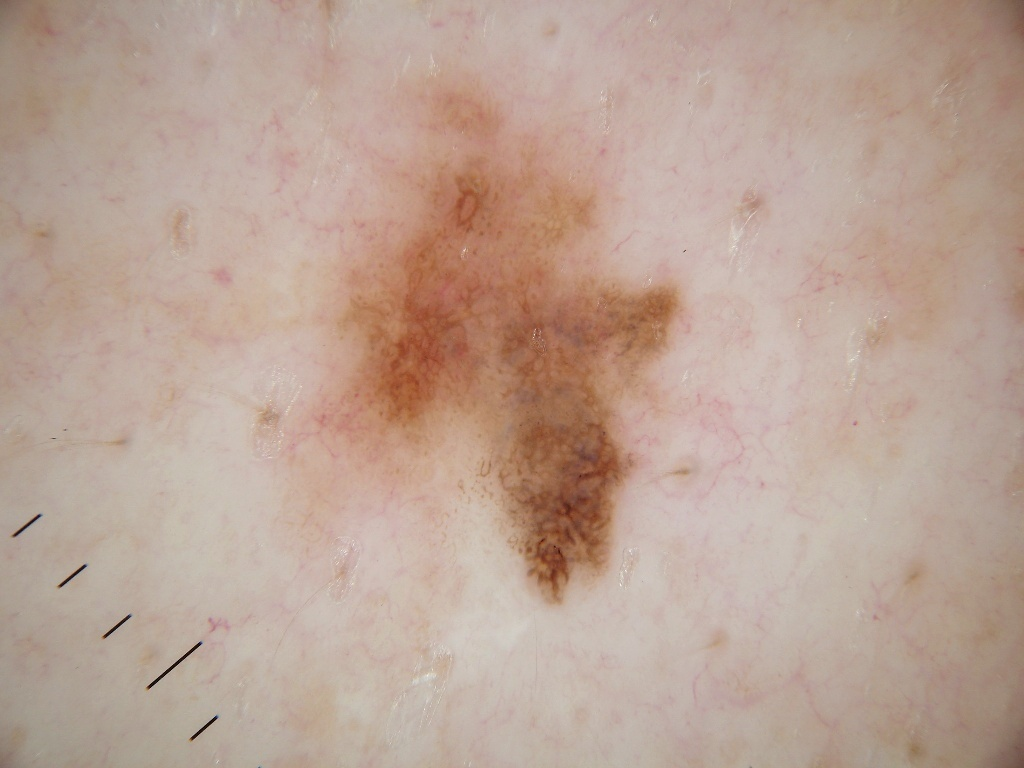Detected Lesion: (336, 83, 685, 616)
